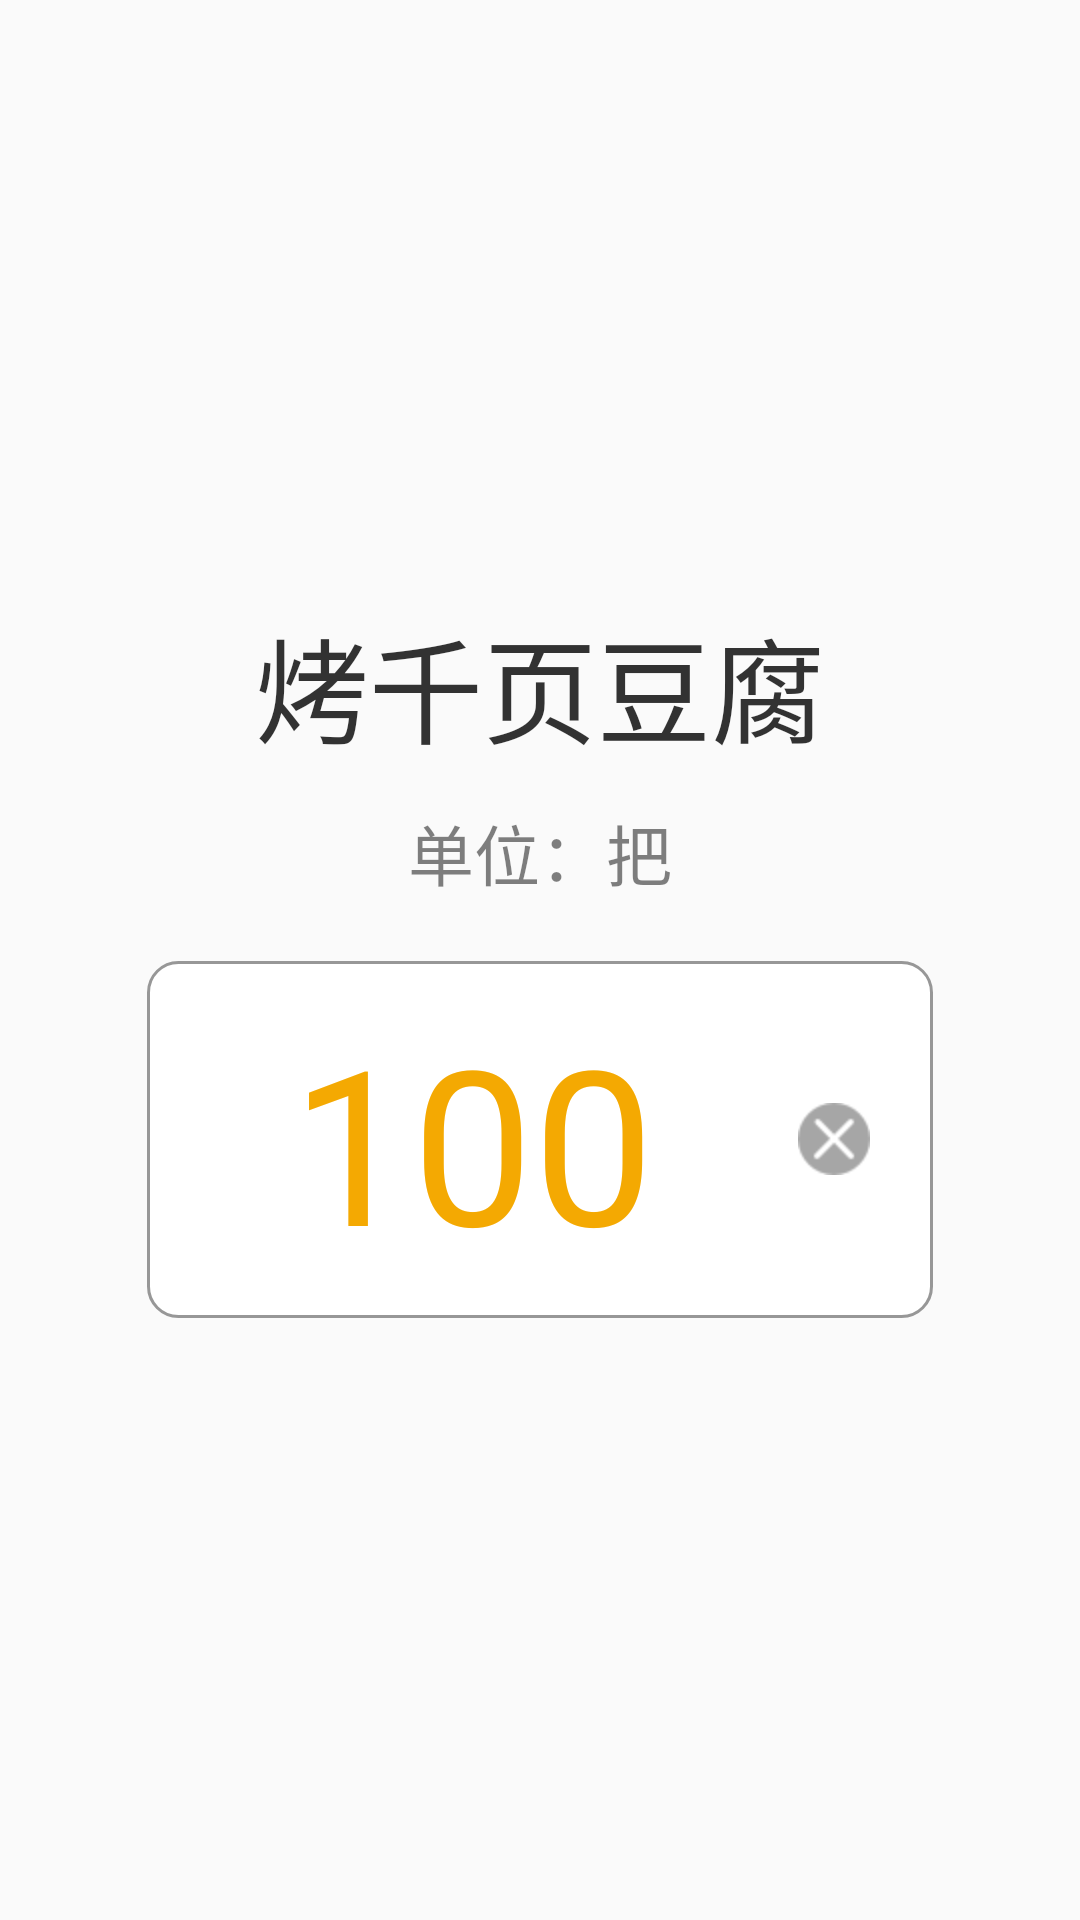

Where to tap for icons on this 1080w x 1920h app screen, as [x,y]:
delete: [834,1139]
